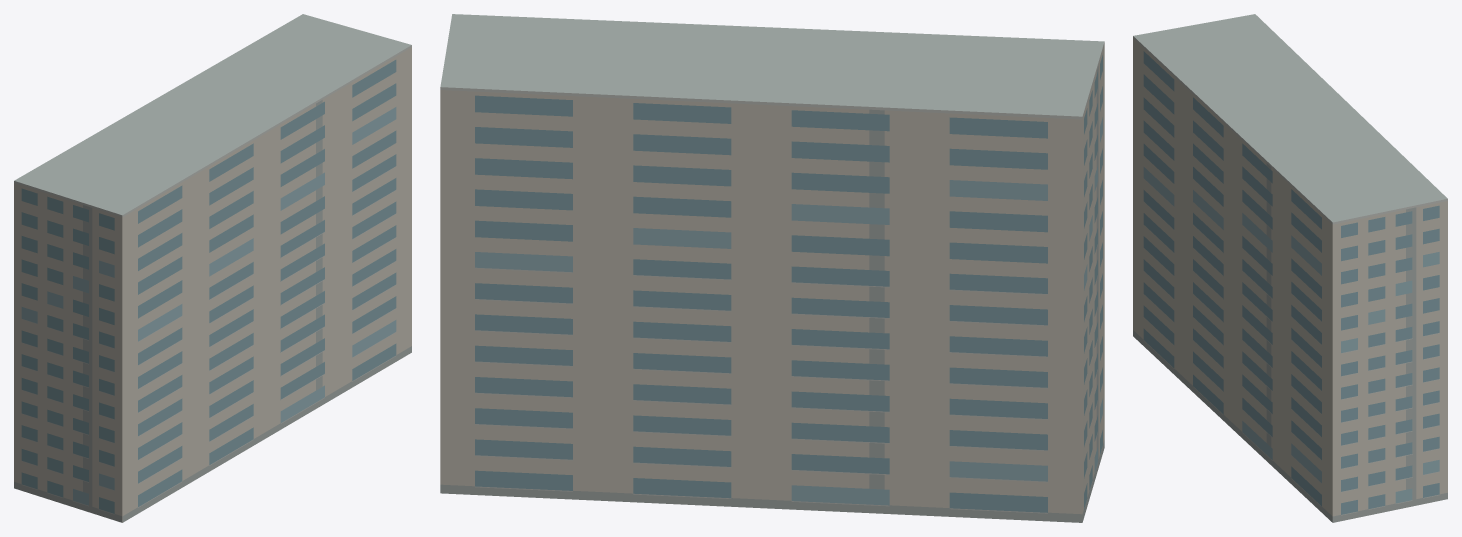
Rendered from residential-c8898b03-a09f-4e38-b311-d555e8590fab.glb.
The picture shows the model from 3 angles, left to right: view 1: azimuth 30°, elevation 25°; view 2: azimuth 150°, elevation 25°; view 3: azimuth 270°, elevation 25°; orthographic projection. The views are drawn at different scales.
Parts seen in each view (by area): view 1: residential-c8898b03-a09f-4e38-b311-d555e8590fab.tmp; view 2: residential-c8898b03-a09f-4e38-b311-d555e8590fab.tmp; view 3: residential-c8898b03-a09f-4e38-b311-d555e8590fab.tmp.
Part boxes in pixels (left/top/right/bottom): residential-c8898b03-a09f-4e38-b311-d555e8590fab.tmp: left=14, top=14, right=411, bottom=522; residential-c8898b03-a09f-4e38-b311-d555e8590fab.tmp: left=440, top=14, right=1104, bottom=522; residential-c8898b03-a09f-4e38-b311-d555e8590fab.tmp: left=1133, top=14, right=1447, bottom=522.
Size of the model in its own units: 52.11 by 35 by 33.25.
